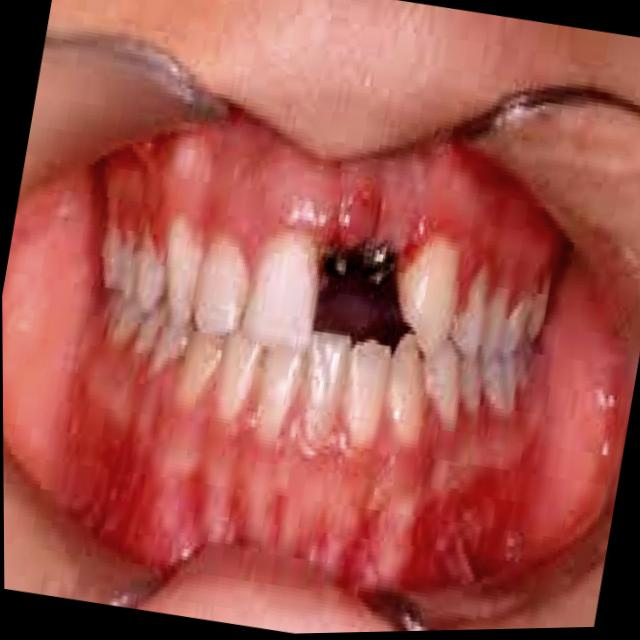hypodontia: (294, 212, 426, 365)
